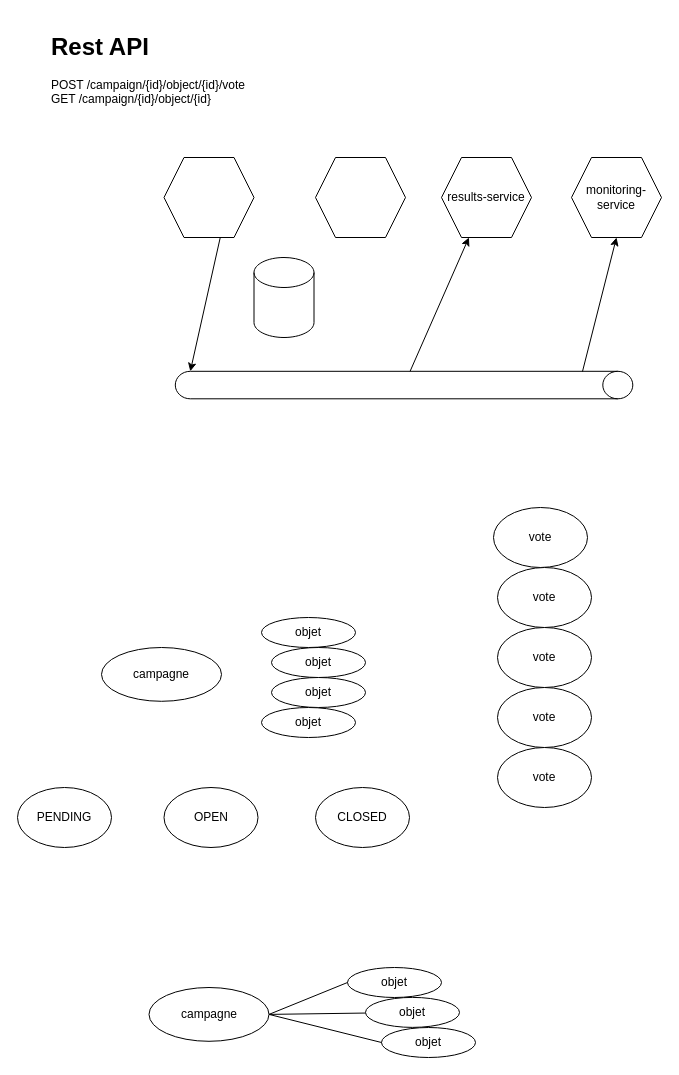
Some shapes in this 679 by 1075 pixel diagram are drawn without their labels. Here are the shapes that lost their labels. From the top down, the centre of each, then its label:
(x=208, y=197): voting-service
(x=360, y=197): admin-service
